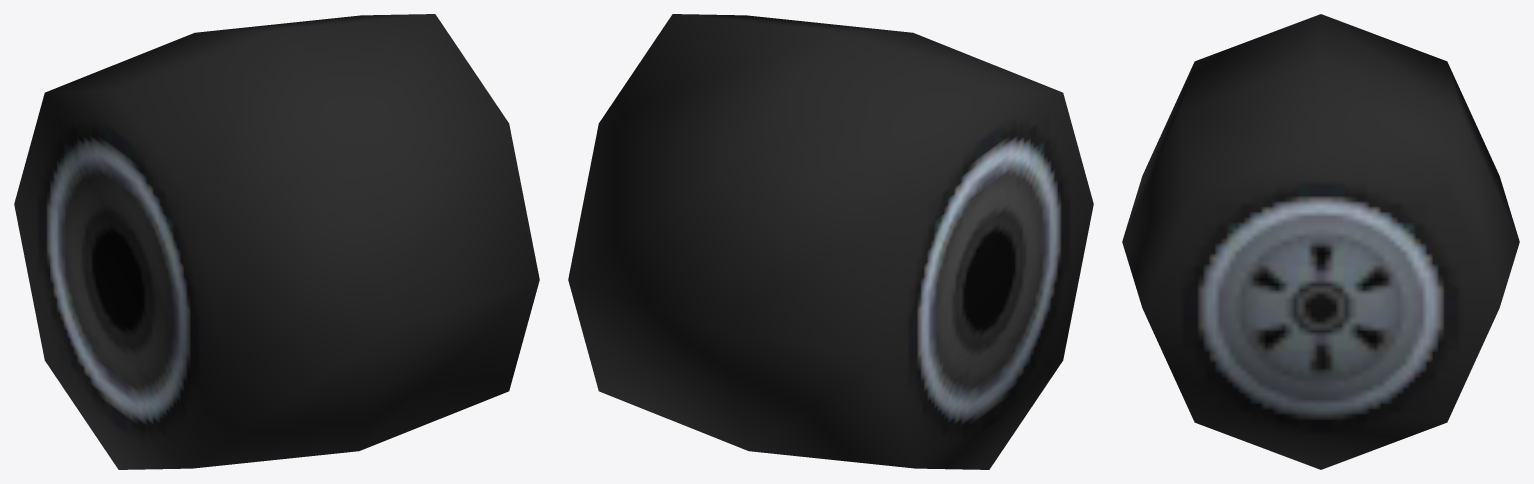
Rendered from tire_race_L.dae.
The picture shows the model from 3 angles, left to right: view 1: azimuth 30°, elevation 25°; view 2: azimuth 150°, elevation 25°; view 3: azimuth 270°, elevation 25°; orthographic projection. The views are drawn at different scales.
Visible parts, largest first — view 1: tire_race_L; view 2: tire_race_L; view 3: tire_race_L.
Part boxes in pixels (<box>): tire_race_L: <box>14,14,539,469</box>; tire_race_L: <box>568,14,1093,469</box>; tire_race_L: <box>1122,14,1519,469</box>.
Bounding box in the file's own units: 3.27 × 4.16 × 4.16.
Materials: 1 (1 with a texture image).
